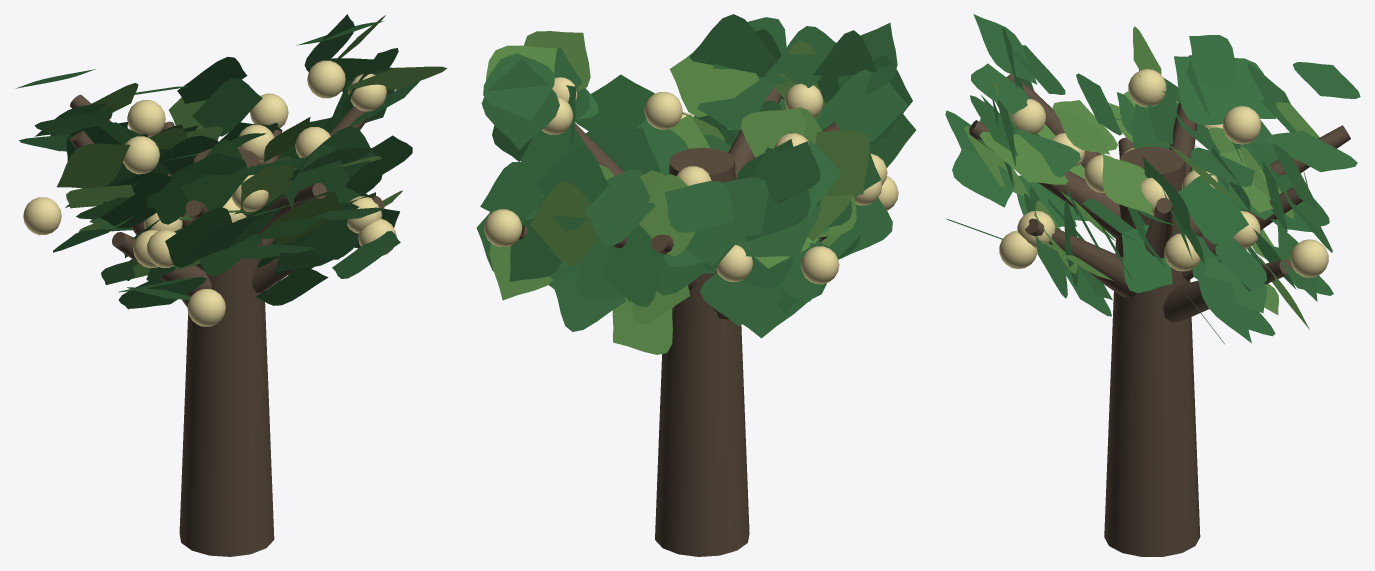
File: kadam-tree.glb
3 renders of one model, left to right at view 1: azimuth 30°, elevation 25°; view 2: azimuth 150°, elevation 25°; view 3: azimuth 270°, elevation 25°, orthographic.
Parts seen in each view (by area): view 1: main-trunk, leaf-6-11, leaf-8-8, leaf-4-10, leaf-4-9, leaf-2-7, leaf-3-8, leaf-8-7, leaf-2-13, leaf-3-1, leaf-4-12, leaf-2-4 (+49 smaller); view 2: main-trunk, leaf-4-3, leaf-9-1, leaf-8-10, leaf-3-4, leaf-7-7, leaf-3-6, leaf-1-2, leaf-7-2, leaf-8-7, leaf-6-11, leaf-2-13 (+47 smaller); view 3: main-trunk, leaf-1-7, branch-2, leaf-1-3, leaf-6-13, leaf-7-7, leaf-3-13, leaf-1-6, leaf-6-8, leaf-3-6, branch-3, branch-9 (+50 smaller).
Part boxes in pixels (<box>): main-trunk: <box>179,148,274,556</box>; leaf-6-11: <box>57,143,130,188</box>; leaf-8-8: <box>192,78,262,136</box>; leaf-4-10: <box>181,139,249,210</box>; leaf-4-9: <box>165,207,232,267</box>; leaf-2-7: <box>300,203,358,259</box>; leaf-3-8: <box>284,144,349,209</box>; leaf-8-7: <box>177,57,247,103</box>; leaf-2-13: <box>348,135,412,188</box>; leaf-3-1: <box>240,155,293,215</box>; leaf-4-12: <box>151,170,204,224</box>; leaf-2-4: <box>255,268,328,305</box>; main-trunk: <box>655,147,749,556</box>; leaf-4-3: <box>822,69,908,142</box>; leaf-9-1: <box>530,181,597,265</box>; leaf-8-10: <box>602,224,664,306</box>; leaf-3-4: <box>689,14,777,77</box>; leaf-7-7: <box>585,169,655,246</box>; leaf-3-6: <box>670,52,758,117</box>; leaf-1-2: <box>481,59,559,149</box>; leaf-7-2: <box>664,181,733,232</box>; leaf-8-7: <box>536,145,609,231</box>; leaf-6-11: <box>815,130,869,196</box>; leaf-2-13: <box>575,74,654,131</box>; main-trunk: <box>1104,147,1200,556</box>; leaf-1-7: <box>1178,174,1248,243</box>; branch-2: <box>1025,218,1136,297</box>; leaf-1-3: <box>1122,225,1172,292</box>; leaf-6-13: <box>1189,35,1238,87</box>; leaf-7-7: <box>1264,130,1357,172</box>; leaf-3-13: <box>952,147,1015,207</box>; leaf-1-6: <box>1102,154,1152,214</box>; leaf-6-8: <box>1208,58,1276,118</box>; leaf-3-6: <box>979,132,1068,184</box>; branch-3: <box>969,120,1121,238</box>; branch-9: <box>1163,259,1292,322</box>.
Bounding box in the file's own units: 2.29 × 2.84 × 2.25.
